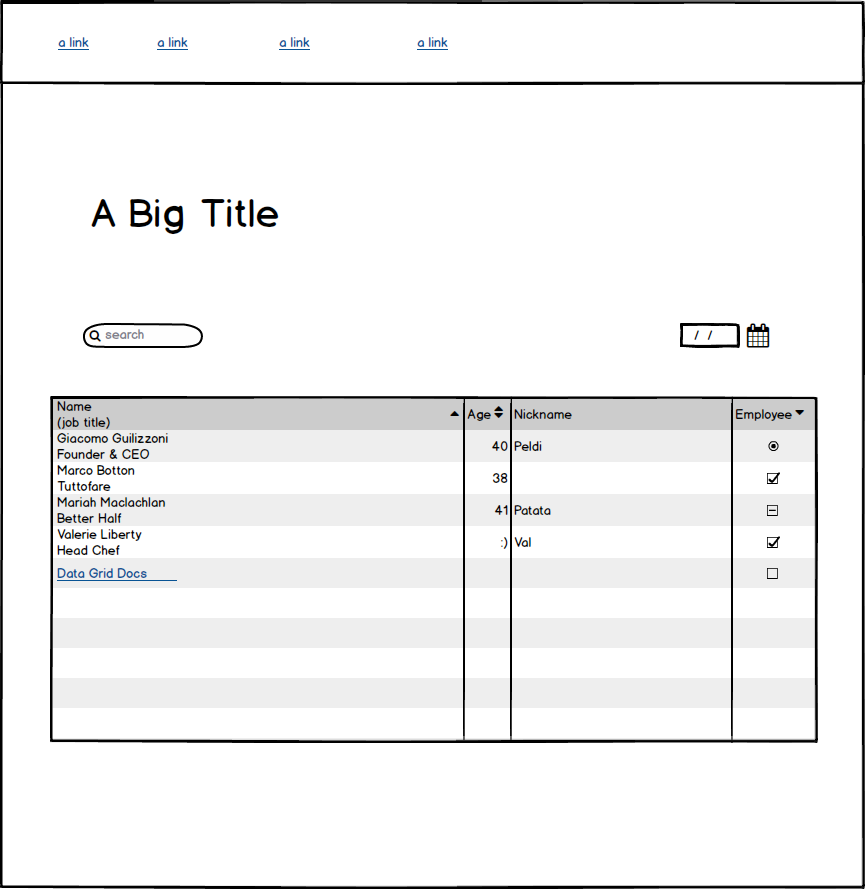date_picker: (674, 312, 782, 359)
h1: (79, 183, 287, 240)
navlink: (253, 25, 324, 54), (145, 24, 202, 59), (406, 24, 463, 59), (53, 25, 106, 58)
search: (75, 315, 216, 358)
table: (40, 390, 828, 754)
